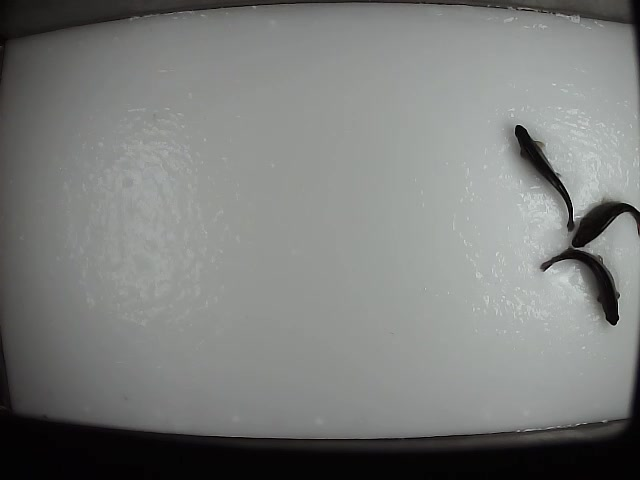fish: (513, 120, 579, 236), (538, 245, 622, 326)
